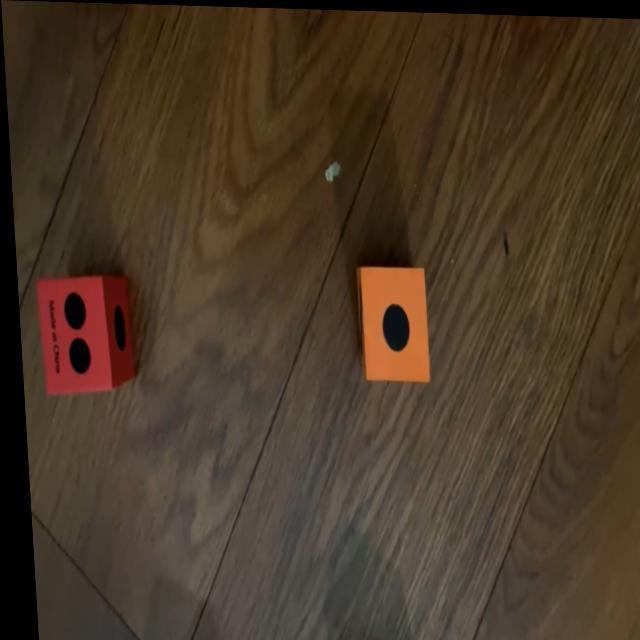cube: (33, 273, 130, 402)
